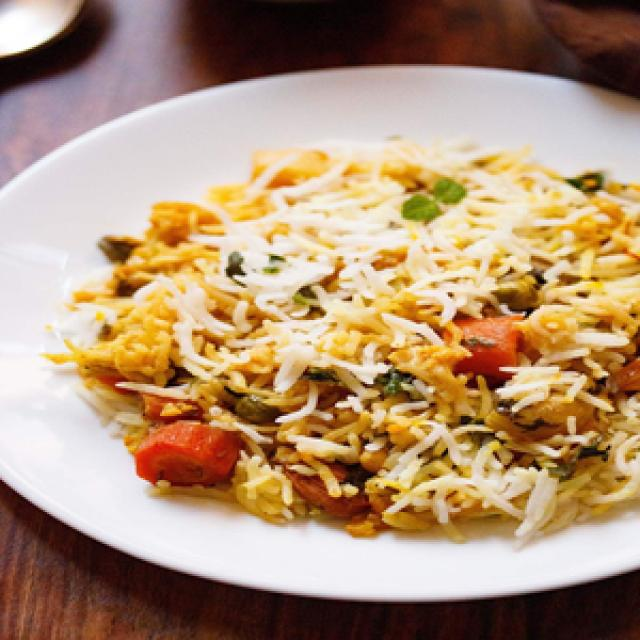chicken biriyani: (37, 120, 640, 564)
